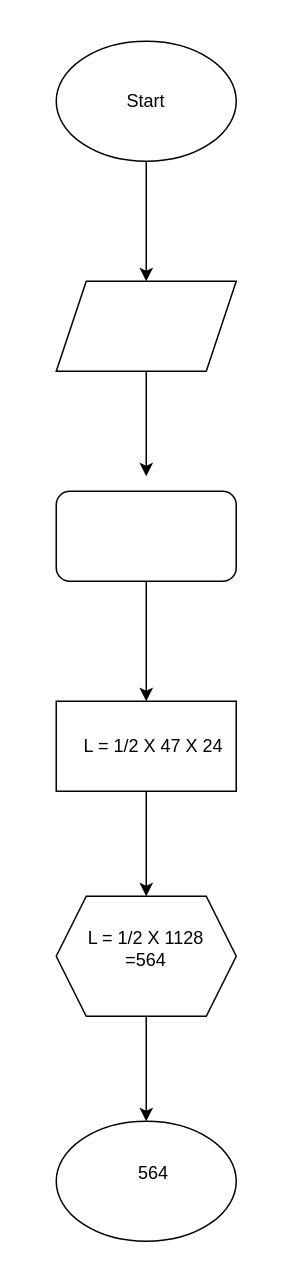
Image size: 291x1268. Some labels were removed from this diagram. Each missing label, with the box of its shape:
A = 47 T = 24 L = ?: (55, 280, 236, 371)
L = 1/2 X A X T: (55, 490, 236, 581)
